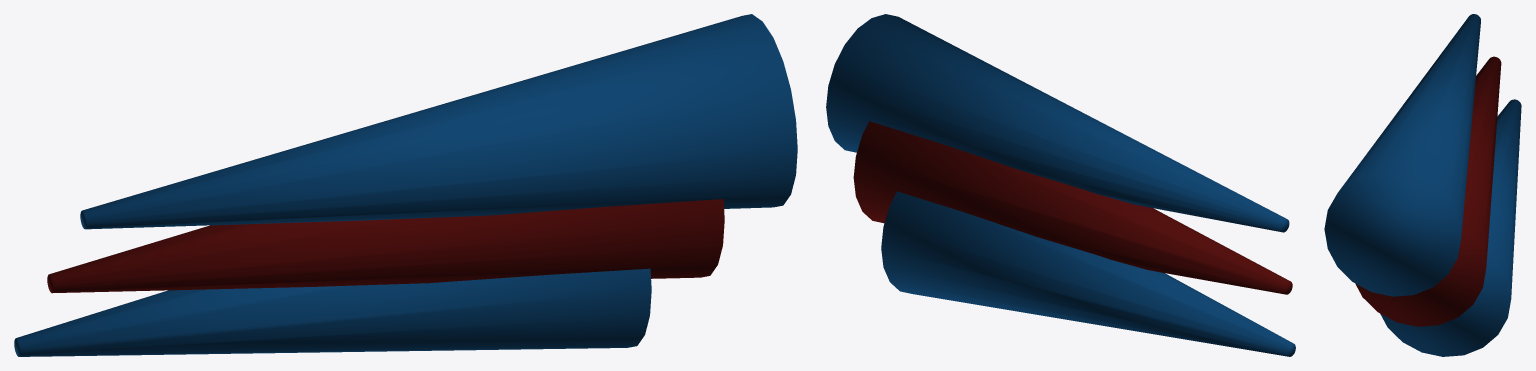
The model's file is SM_LT_Parrot_Tail.obj.
The picture shows the model from 3 angles, left to right: view 1: azimuth 30°, elevation 25°; view 2: azimuth 150°, elevation 25°; view 3: azimuth 270°, elevation 25°; orthographic projection. The views are drawn at different scales.
Parts seen in each view (by area): view 1: SM_LT_Parrot_Tail; view 2: SM_LT_Parrot_Tail; view 3: SM_LT_Parrot_Tail.
Boxes of the visible parts, <box> form: SM_LT_Parrot_Tail: <box>14,14,797,356</box>; SM_LT_Parrot_Tail: <box>826,14,1295,356</box>; SM_LT_Parrot_Tail: <box>1324,14,1521,356</box>.
Bounding box in the file's own units: 36.4 × 16.4 × 13.08.
